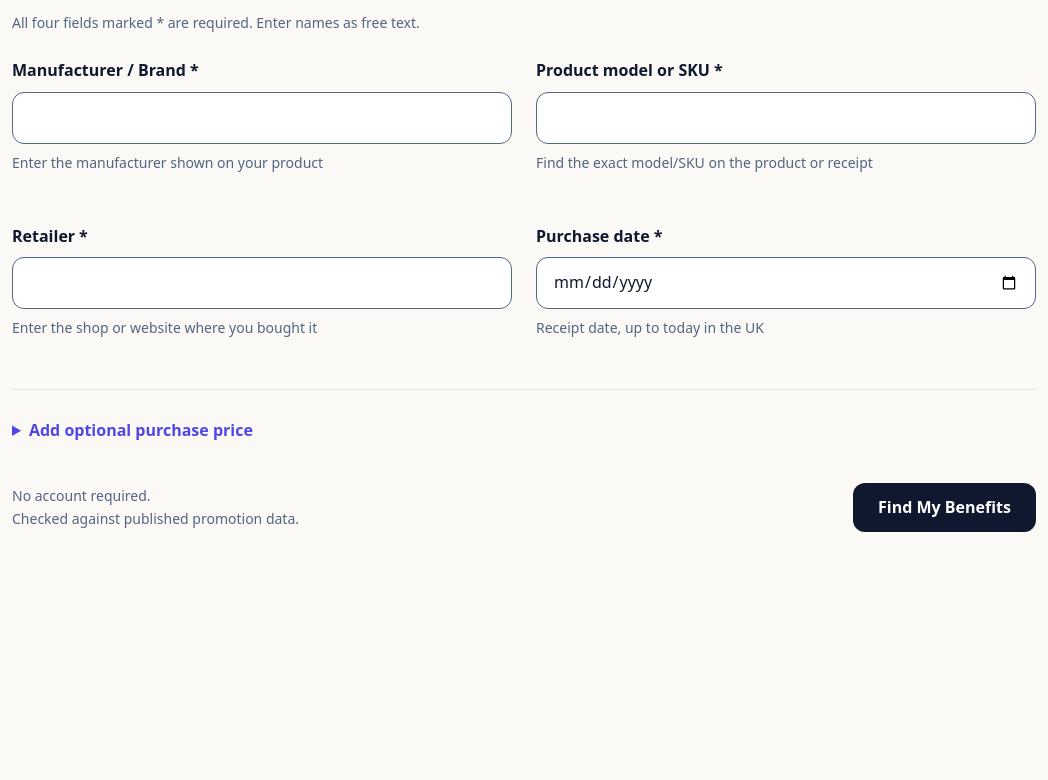
Test: guides unresolved ambiguous correction without UUIDs
The image size is (1048, 780).
Type "Example" into the field labelled "Manufacturer / Brand" at (262, 118), box [12,92,512,144]
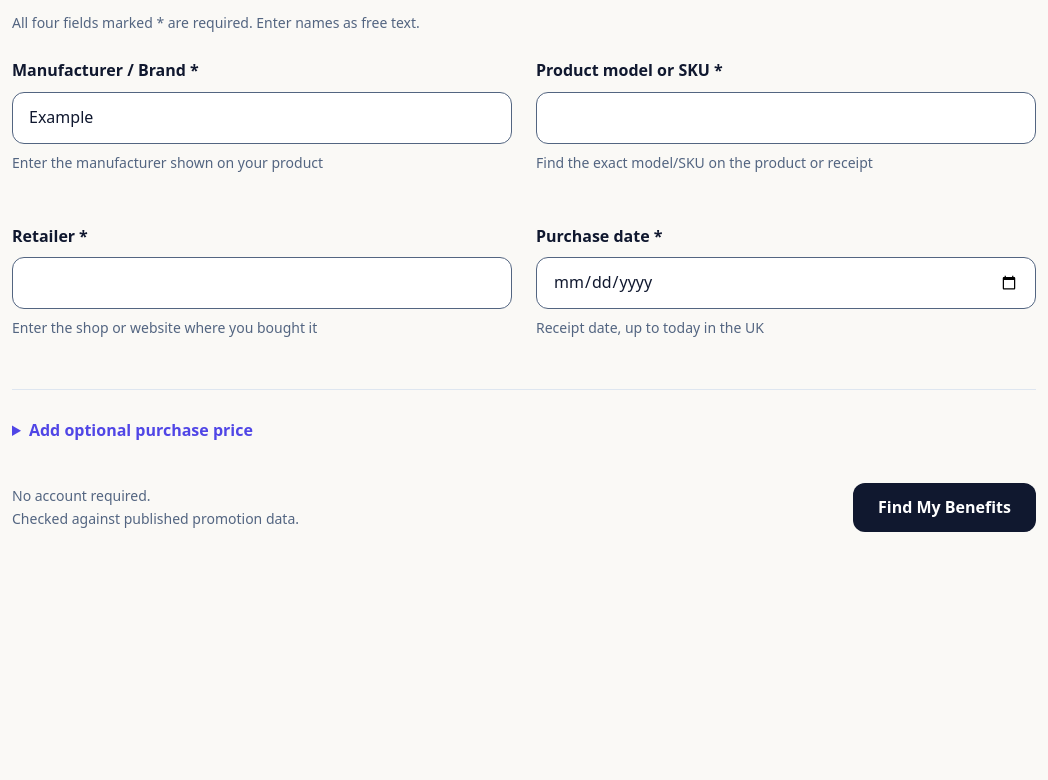
Type " SKU /-1 " into the field labelled "Product model or SKU" at (786, 118), box [536,92,1036,144]
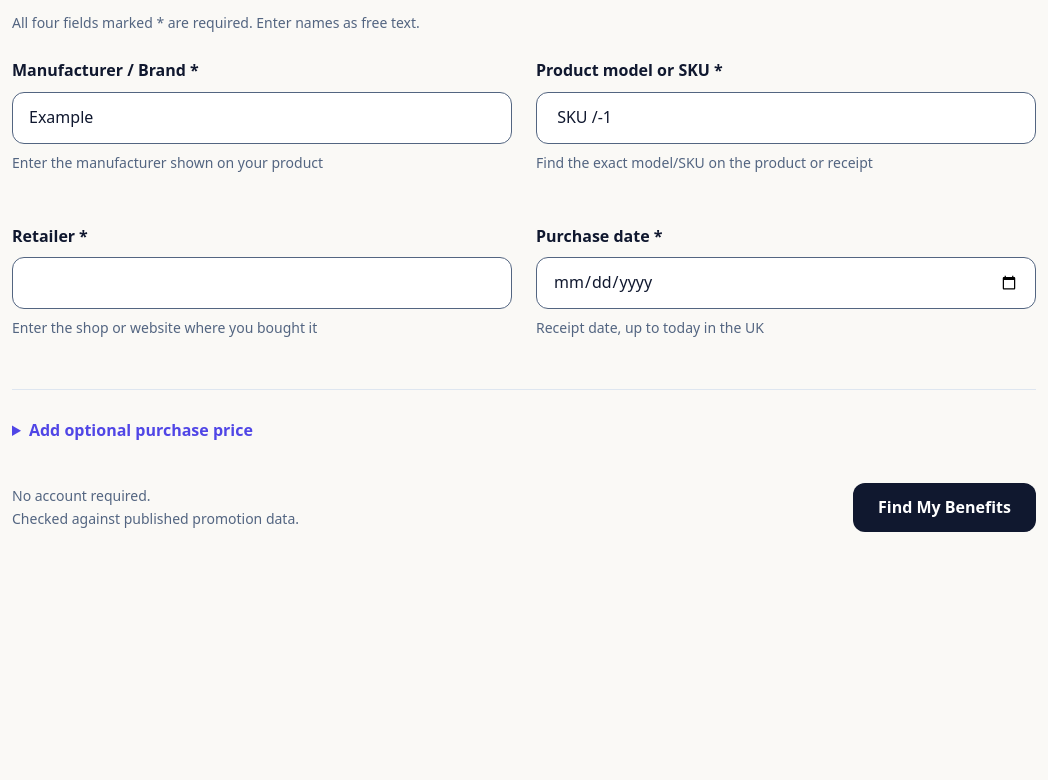
Type "Shop" into the field labelled "Retailer" at (262, 283), box [12,257,512,309]
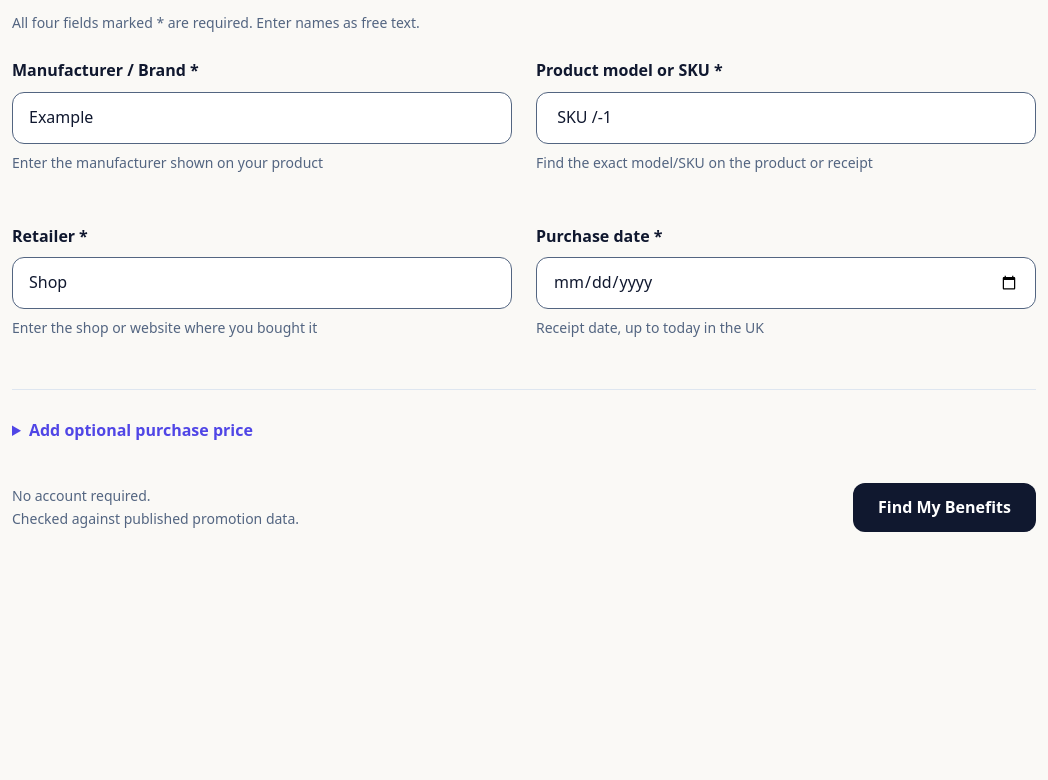
Type "2024-02-29" into the date field labelled "Purchase date" at (786, 283), box [536,257,1036,309]
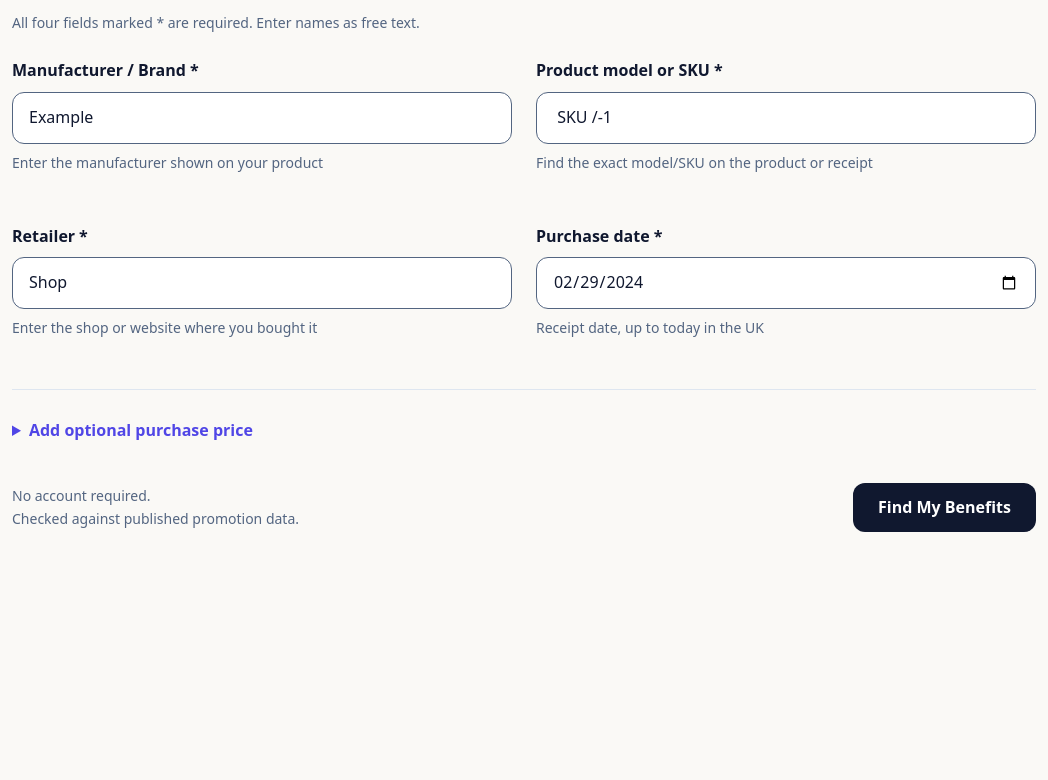
Submit the form
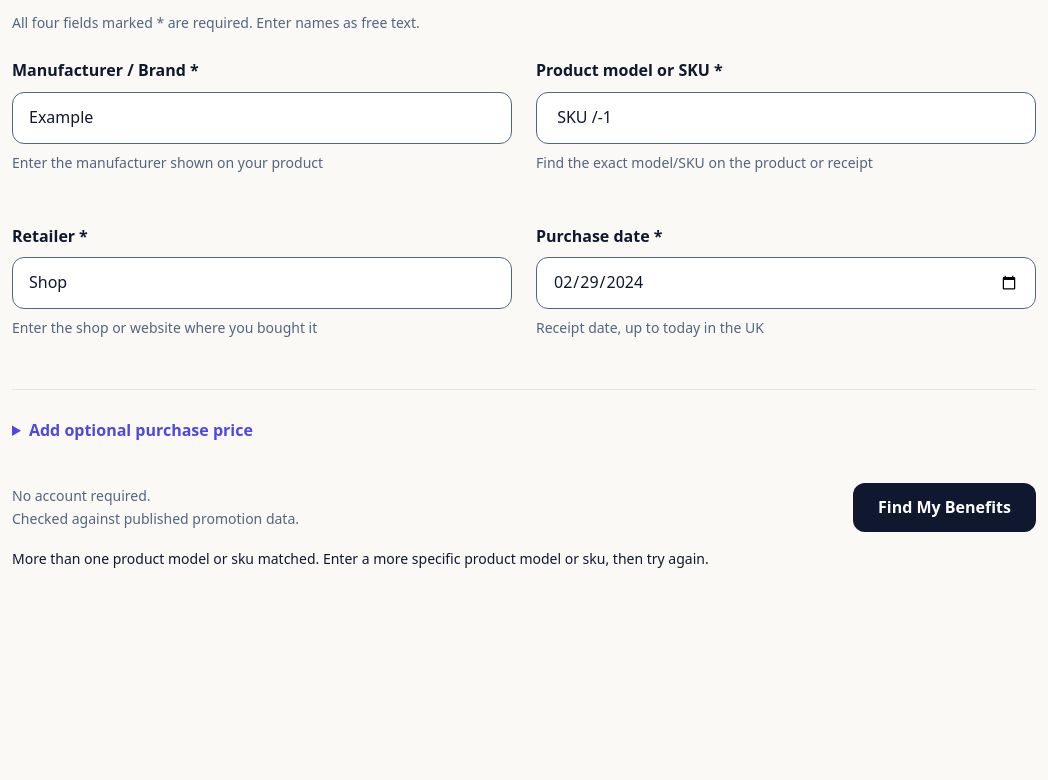
Now the message shows "More than one product model or sku matched", box [12,549,709,568]
Now the message shows "try again", box [12,549,709,568]
